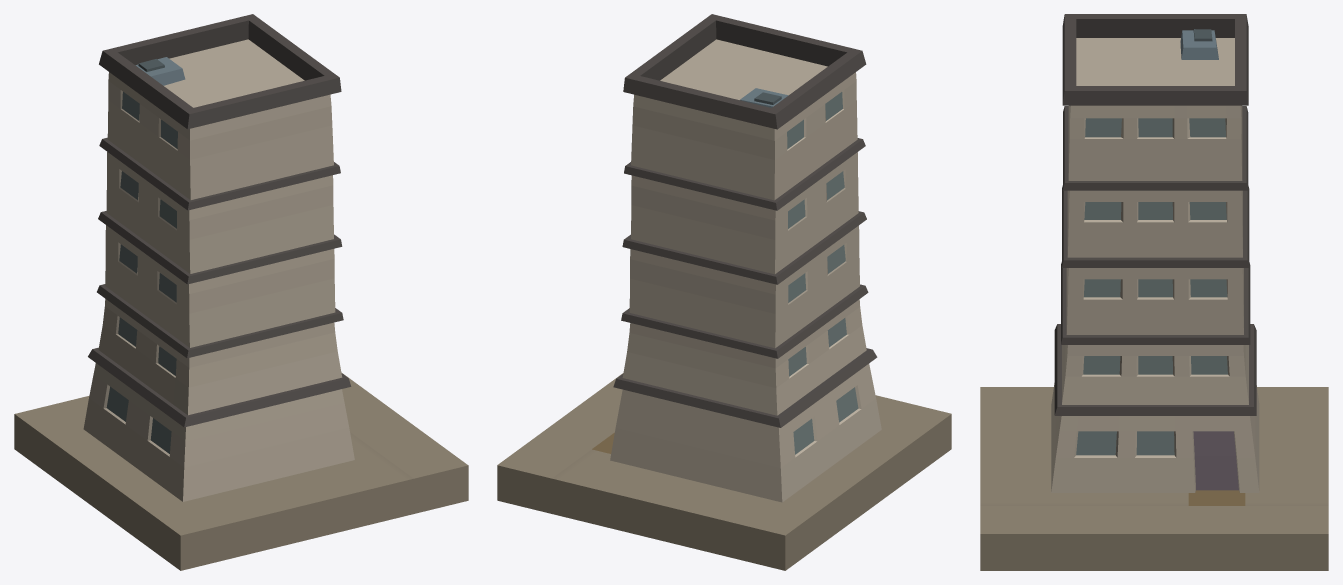
The model's file is Apartamento.fbx.
The picture shows the model from 3 angles, left to right: view 1: azimuth 30°, elevation 25°; view 2: azimuth 150°, elevation 25°; view 3: azimuth 270°, elevation 25°; orthographic projection. The views are drawn at different scales.
Visible parts, largest first — view 1: Apartamento; view 2: Apartamento; view 3: Apartamento.
Boxes of the visible parts, x1,y1,x2,y2 form: Apartamento: (14, 14, 468, 570); Apartamento: (497, 14, 951, 570); Apartamento: (980, 14, 1328, 570).
Size of the model in its own units: 200 by 276 by 200.
